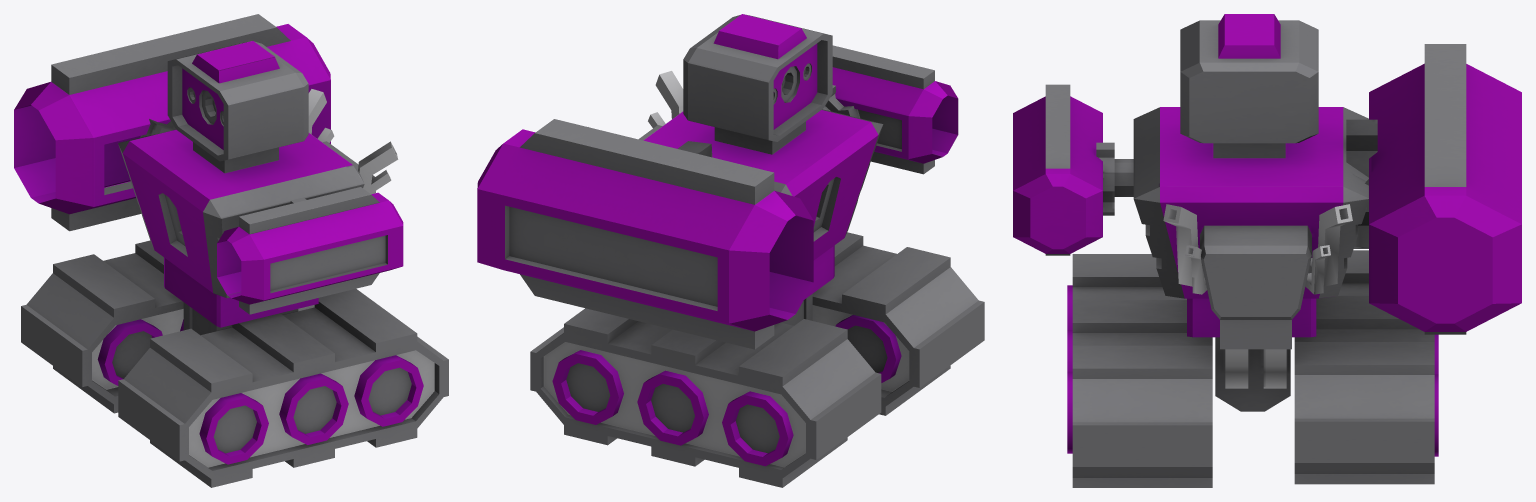
Rendered from Enemy2_Attack9.obj.
3 renders of one model, left to right at view 1: azimuth 30°, elevation 25°; view 2: azimuth 150°, elevation 25°; view 3: azimuth 270°, elevation 25°, orthographic. The views are drawn at different scales.
Visible parts, largest first — view 1: Object006, Object007, Object011, Object010; view 2: Object006, Object011, Object007, Object010; view 3: Object006, Object007, Object011, Object010, Object009, Object008.
Part boxes in pixels (x1,y1,x2,y2): Object006: (21,187,448,487); Object007: (118,41,364,335); Object011: (14,14,330,231); Object010: (298,89,398,311); Object006: (530,45,984,487); Object011: (477,119,813,349); Object007: (643,14,883,325); Object010: (588,71,683,140); Object006: (1013,84,1438,487); Object007: (1133,14,1368,411); Object011: (1369,44,1521,334); Object010: (1163,204,1352,388); Object009: (1346,119,1377,248); Object008: (1096,142,1133,215).
Size of the model in its own units: 94.77 by 108 by 125.
